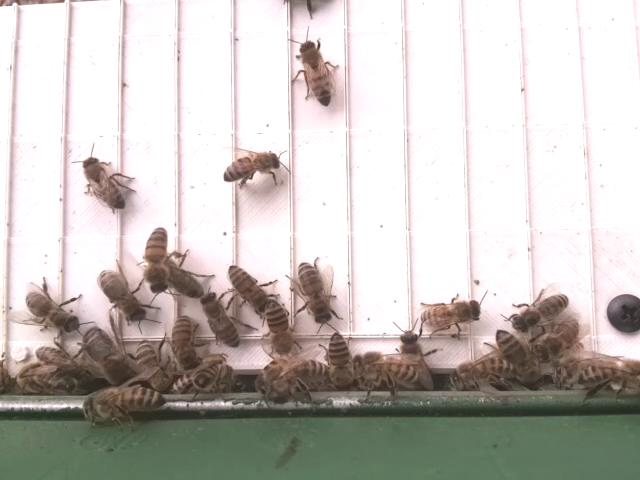Drone: (74, 322, 139, 384)
Worker: (349, 346, 421, 399), (219, 259, 281, 319), (281, 263, 344, 321), (94, 266, 152, 325), (292, 37, 338, 111), (258, 356, 325, 404), (139, 221, 178, 302), (197, 291, 246, 354), (78, 152, 127, 213), (23, 286, 84, 335), (159, 315, 209, 370), (415, 294, 484, 333), (83, 384, 167, 416), (219, 148, 284, 189), (512, 292, 571, 335), (532, 315, 583, 363), (321, 326, 359, 387), (256, 301, 299, 354), (448, 354, 516, 386), (573, 360, 640, 391), (494, 327, 533, 380)
